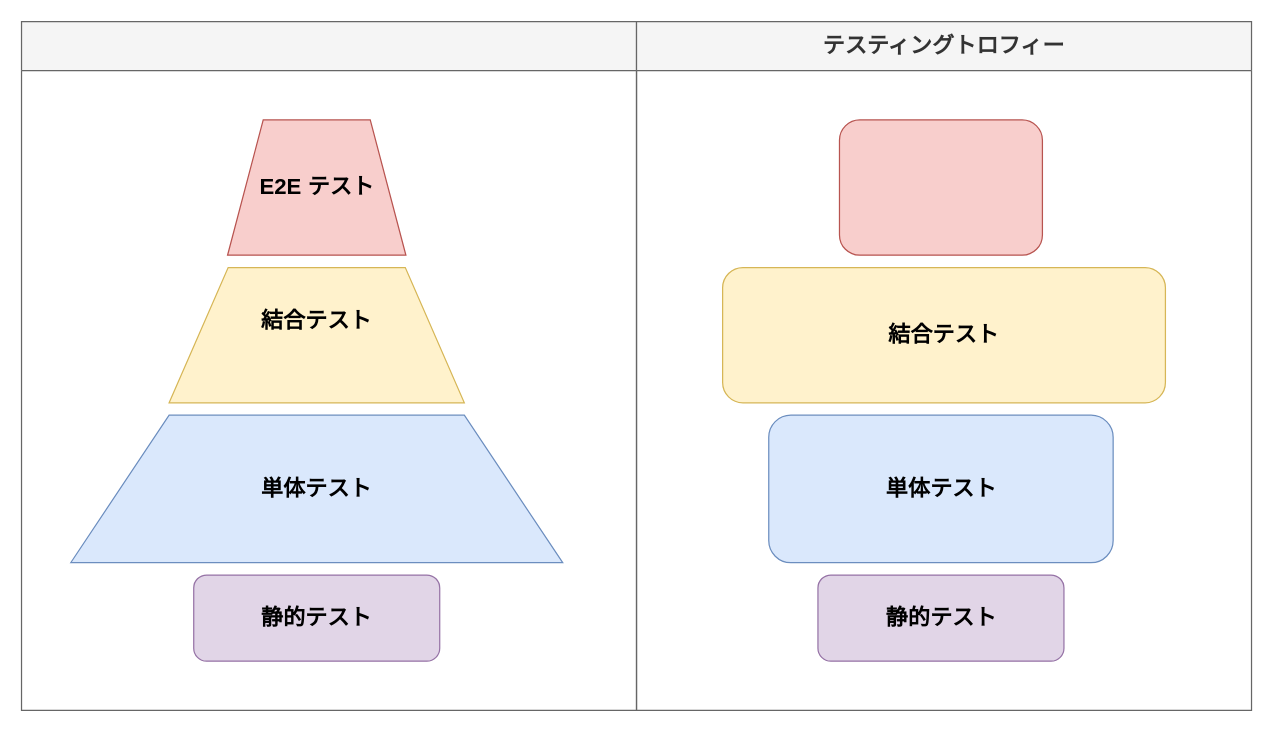
Some shapes in this 1273 by 732 pixel diagram are drawn without their labels. Each missing label, with the box of its shape:
E2Eテスト: (838, 119, 1042, 255)
テストピラミッド: (20, 20, 637, 710)
